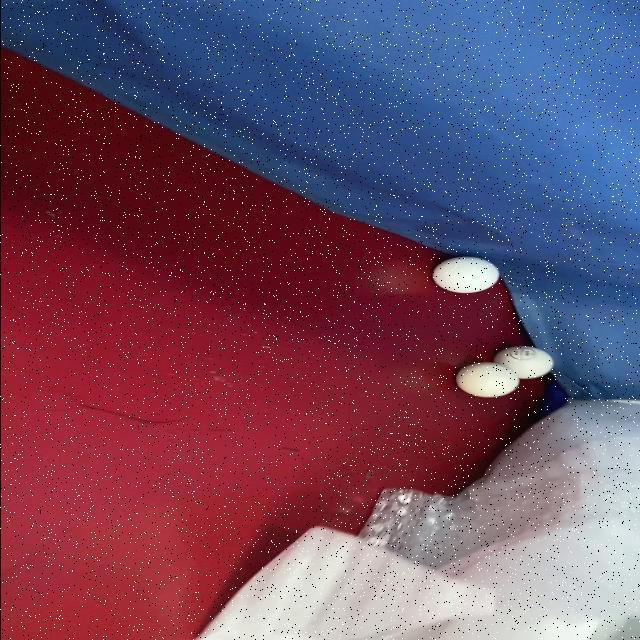ping-pong-ball: (428, 254, 503, 296), (453, 360, 519, 400)
